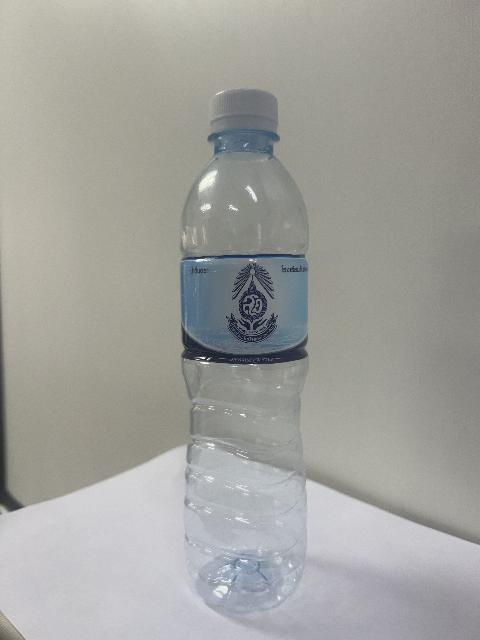bottle: (181, 90, 308, 612)
